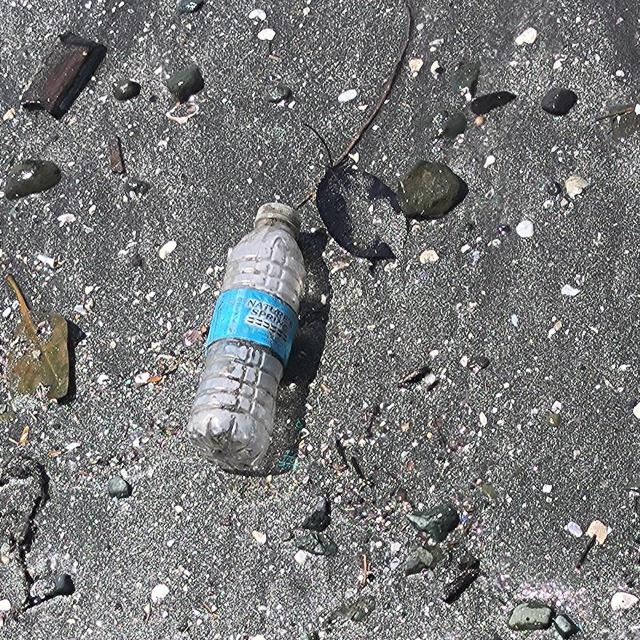litter: (185, 202, 308, 471)
